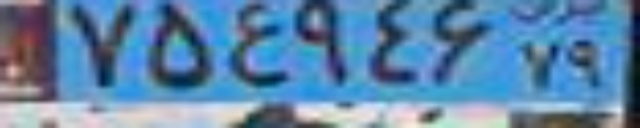4: (368, 1, 421, 83)
5: (145, 2, 215, 89)
6: (431, 1, 492, 85)
7: (70, 1, 137, 91), (516, 40, 558, 92)
9: (294, 1, 350, 87), (565, 39, 603, 88)
ain: (227, 2, 290, 86)
